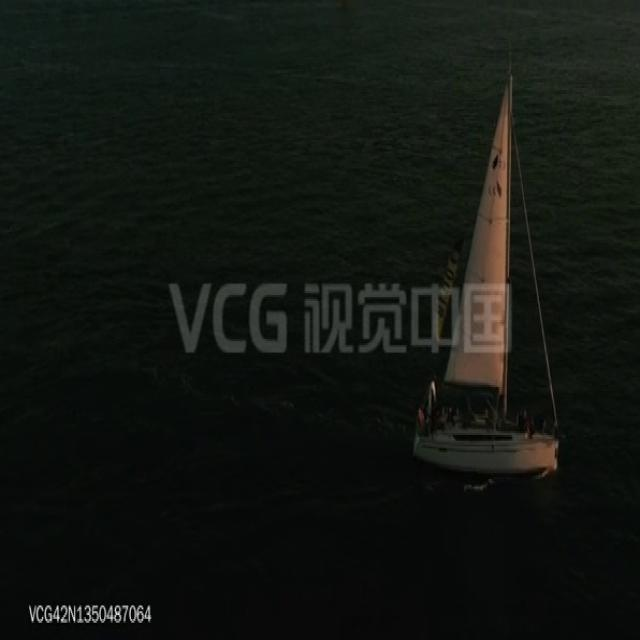sailboat: (406, 59, 563, 475)
